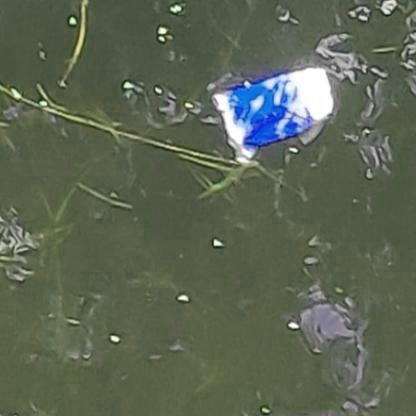Trash: (202, 53, 340, 177)
